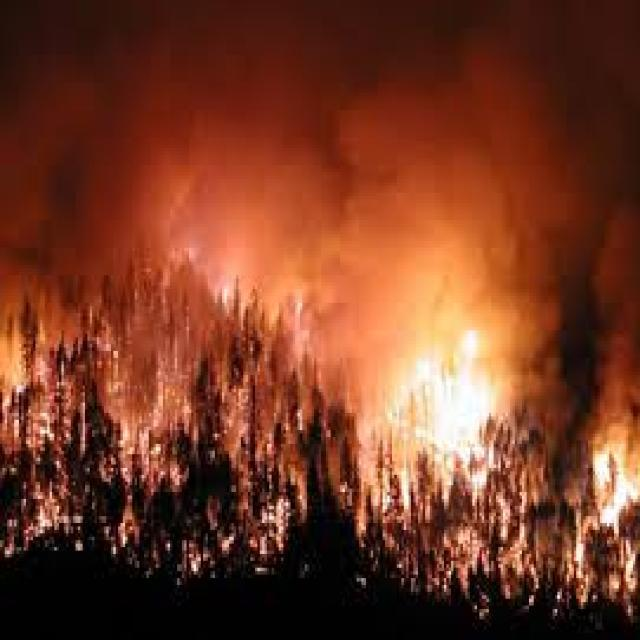Fire: (26, 219, 342, 569), (370, 381, 640, 608)
Smoke: (356, 22, 613, 261), (1, 24, 262, 197)
